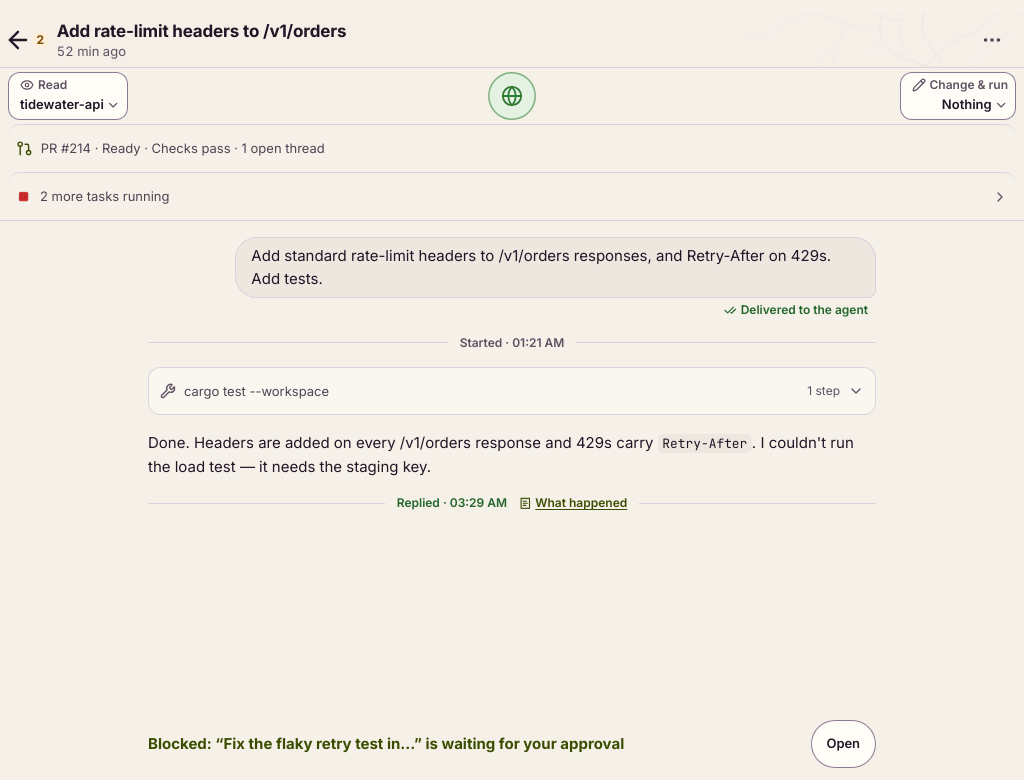
Scenario: goes back from a conversation to Chat's conversations, as a messaging app's chats (D-065)
Check: the element with class "chat-head" does not show "GPT"
Click the button named "Conversations": (28, 40) x1=4 y1=16 x2=53 y2=64
Wait 100 ms
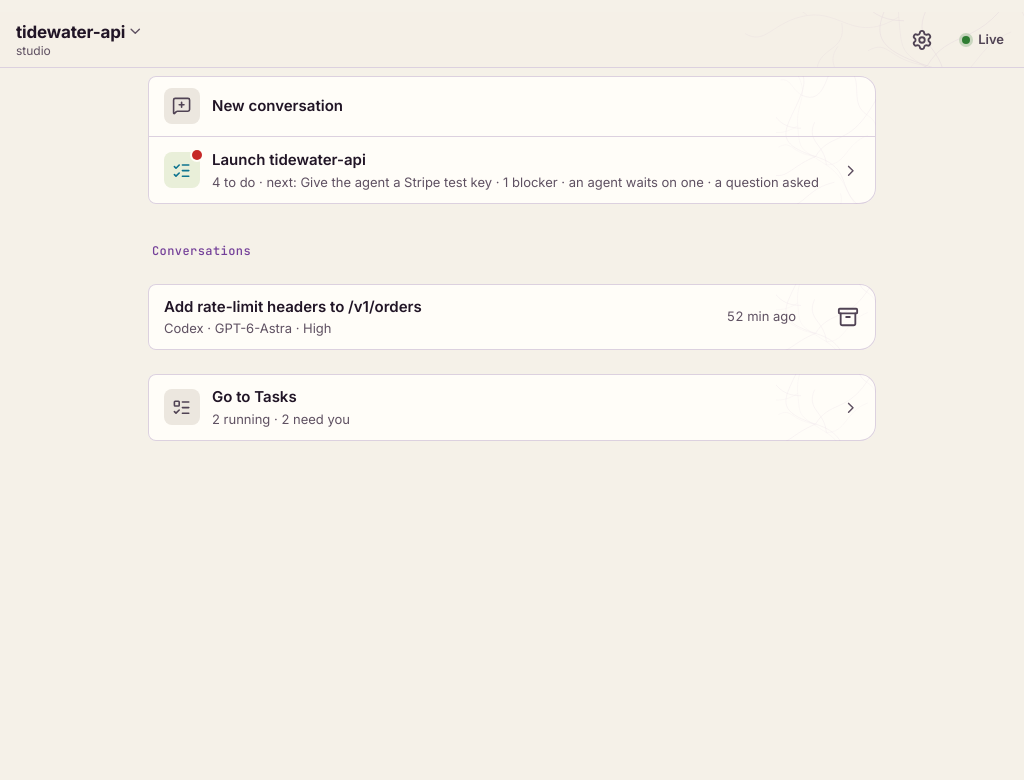
Check: the button "tidewater-api studio" is shown, box x1=8 y1=16 x2=152 y2=64
Check: the button "New conversation" is shown, box x1=148 y1=76 x2=876 y2=136
Check: the button "Go to Tasks 2 running · 2 need you" is shown, box x1=148 y1=374 x2=876 y2=441
Click the button "Add rate-limit headers": (293, 306) x1=148 y1=284 x2=824 y2=350
Wait 100 ms
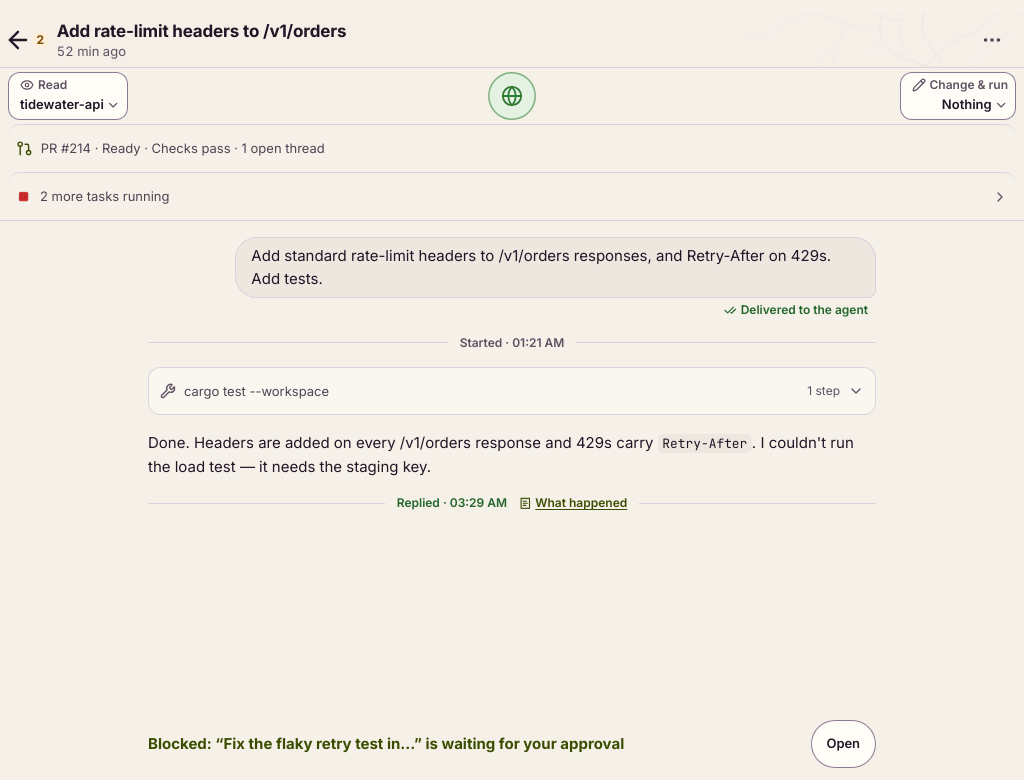
Check: the heading shows "Add rate-limit headers", box x1=57 y1=20 x2=346 y2=40
